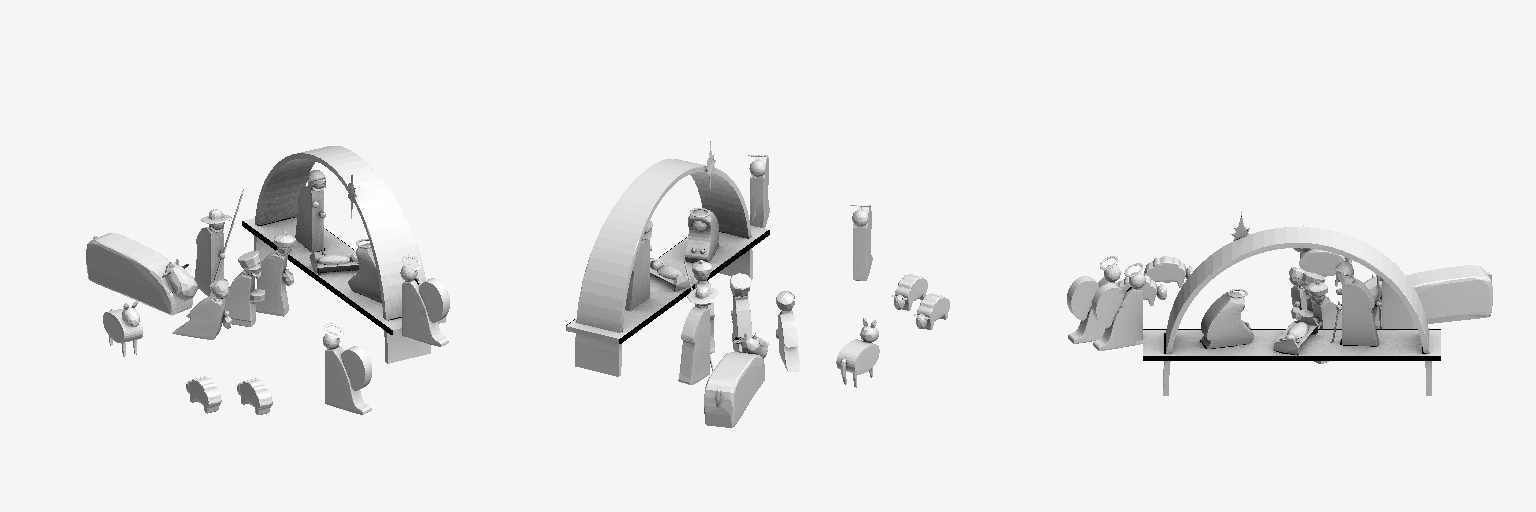
3 renders of one model, left to right at view 1: azimuth 30°, elevation 25°; view 2: azimuth 150°, elevation 25°; view 3: azimuth 270°, elevation 25°, orthographic.
Visible parts, largest first — view 1: objects1:pCube2; view 2: objects1:pCube2; view 3: objects1:pCube2.
Boxes of the visible parts, x1=… form: objects1:pCube2: x1=86, y1=146, x2=449, y2=414; objects1:pCube2: x1=566, y1=141, x2=949, y2=427; objects1:pCube2: x1=1067, y1=211, x2=1492, y2=395.
Size of the model in its own units: 52.4 by 34.23 by 79.44.
Materials: 1 (1 with a texture image).